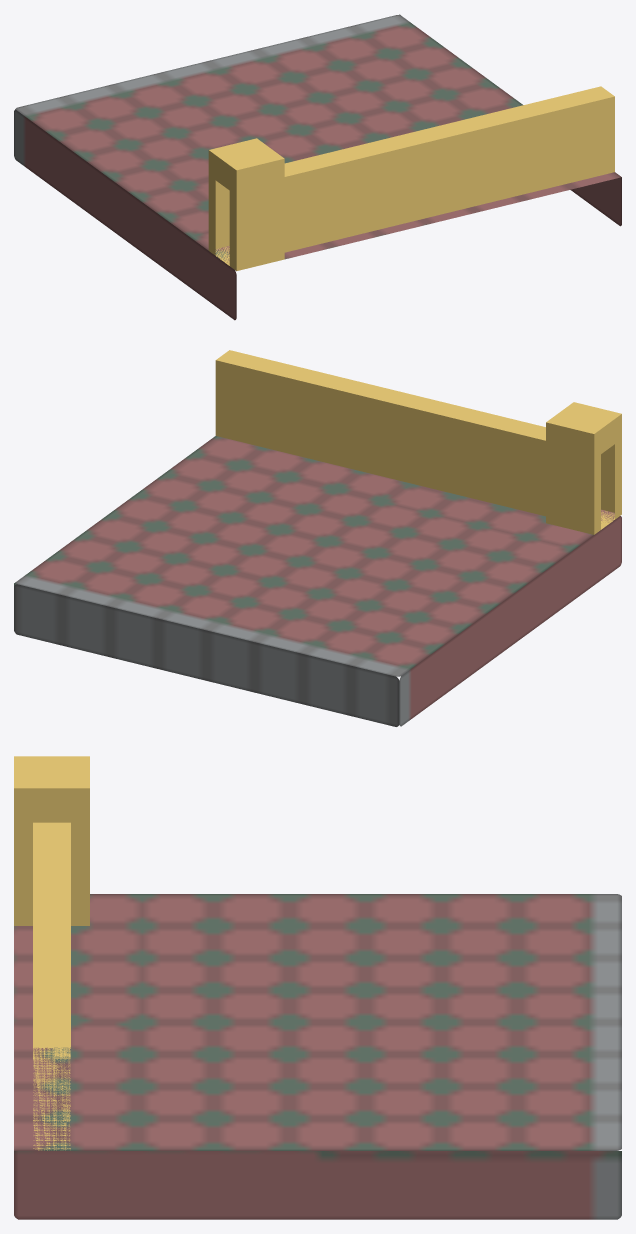
Rendered from Park Wall.fbx.
3 views of the same model, one above another, from view 1: azimuth 30°, elevation 25°; view 2: azimuth 150°, elevation 25°; view 3: azimuth 270°, elevation 25° (orthographic). The views are drawn at different scales.
Parts seen in each view (by area): view 1: SideRoad, cuboid; view 2: SideRoad, cuboid; view 3: SideRoad, cuboid.
Boxes of the visible parts, bbox=[...] form: SideRoad: bbox=[14, 14, 621, 320]; cuboid: bbox=[208, 86, 614, 271]; SideRoad: bbox=[14, 436, 621, 726]; cuboid: bbox=[215, 350, 621, 534]; SideRoad: bbox=[14, 894, 621, 1219]; cuboid: bbox=[14, 756, 89, 1150].
Size of the model in its own units: 200 by 75 by 200.
2 materials, 2 textured.
